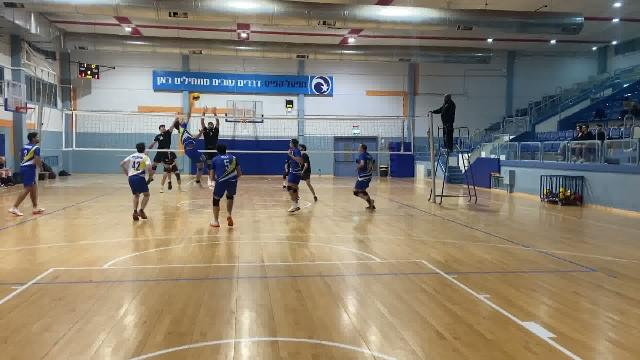ball: (190, 92, 203, 104)
